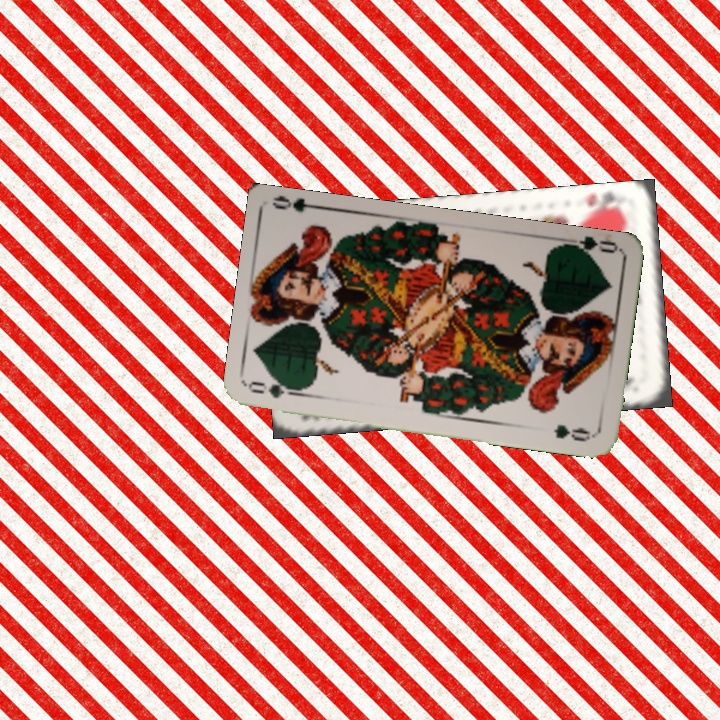GO: (559, 234, 619, 263), (247, 377, 307, 401)
HK: (579, 189, 626, 219)
